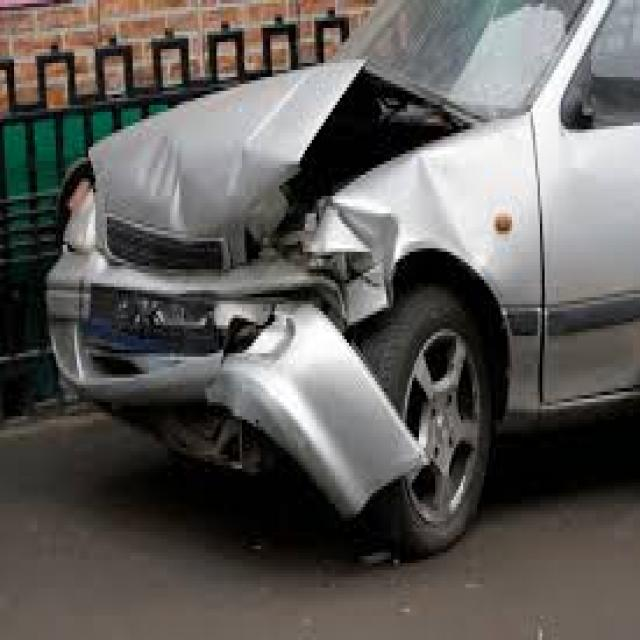moderate: (54, 48, 537, 511)
